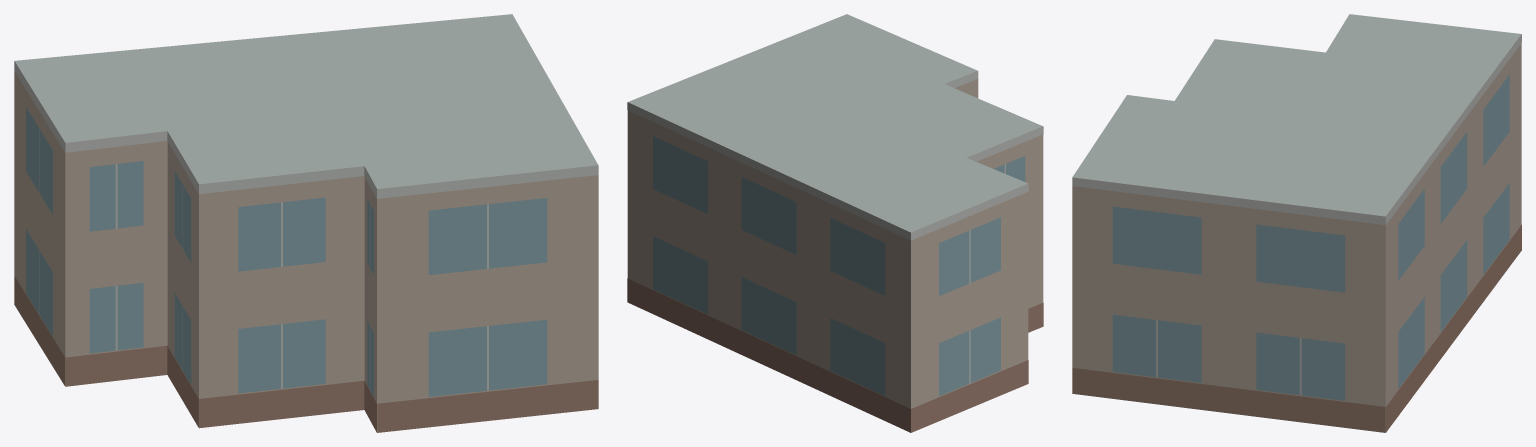
File: survey-upis-32868131.glb
3 renders of one model, left to right at view 1: azimuth 30°, elevation 25°; view 2: azimuth 150°, elevation 25°; view 3: azimuth 270°, elevation 25°, orthographic. The views are drawn at different scales.
Visible parts, largest first — view 1: survey-upis-32868131.tmp; view 2: survey-upis-32868131.tmp; view 3: survey-upis-32868131.tmp.
Boxes of the visible parts, bbox=[...] form: survey-upis-32868131.tmp: bbox=[14, 14, 598, 432]; survey-upis-32868131.tmp: bbox=[627, 14, 1043, 432]; survey-upis-32868131.tmp: bbox=[1072, 14, 1521, 432].
Bounding box in the file's own units: 12.26 × 6.1 × 11.5.
